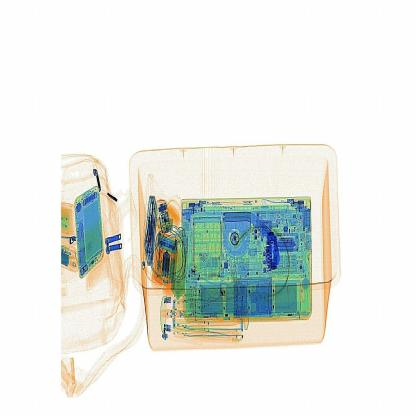scissors: (261, 218, 289, 280)
